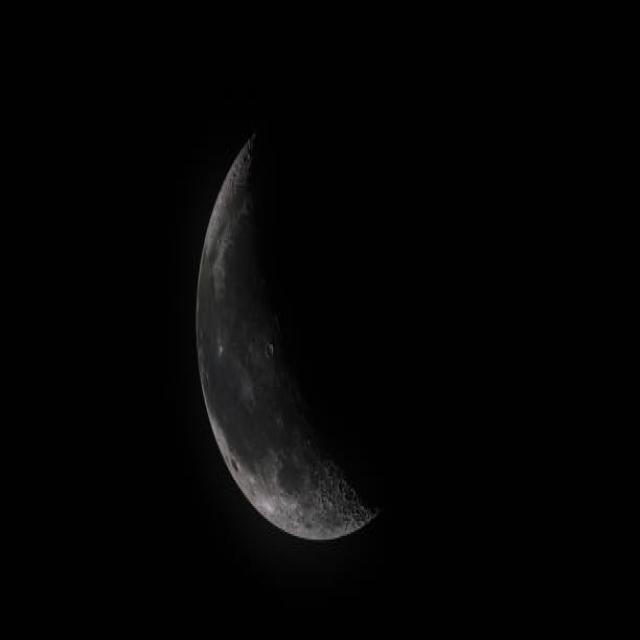moon: (196, 106, 444, 536)
